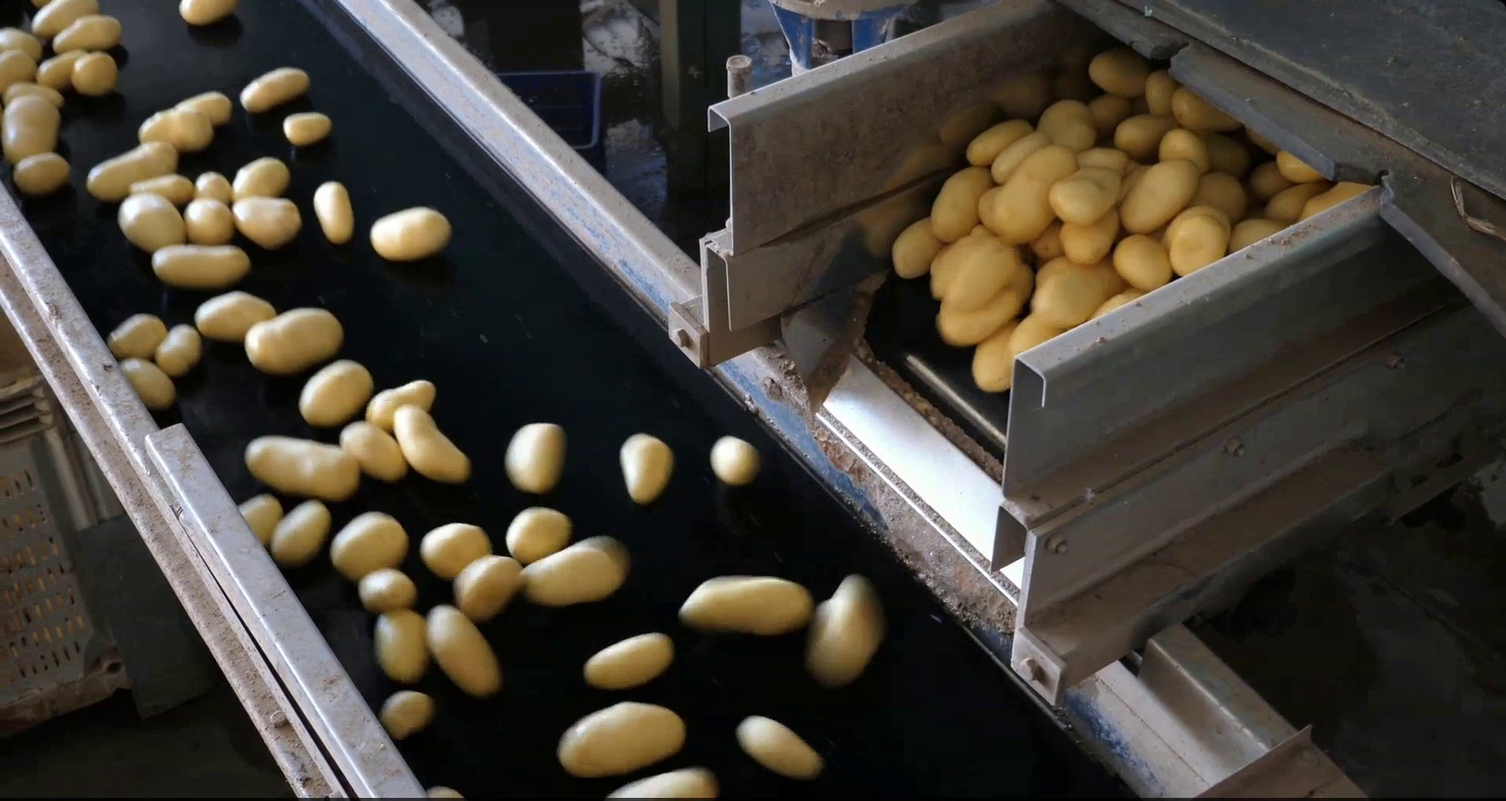potato: (548, 698, 694, 782), (803, 567, 886, 694), (672, 570, 821, 640), (987, 142, 1083, 248), (515, 531, 634, 615), (923, 262, 1036, 350), (239, 300, 351, 379), (241, 432, 362, 505), (421, 599, 505, 701), (1028, 254, 1131, 327), (1115, 157, 1204, 239), (392, 401, 476, 486), (575, 627, 676, 697), (78, 140, 186, 204), (324, 509, 413, 585), (733, 710, 828, 781), (941, 235, 1028, 311), (926, 158, 996, 250), (290, 356, 377, 429), (365, 201, 456, 264), (190, 288, 287, 347), (1156, 201, 1231, 277), (370, 603, 434, 691), (450, 553, 526, 627), (1044, 161, 1129, 227), (145, 239, 256, 289), (927, 227, 998, 305), (502, 417, 571, 497), (500, 500, 579, 567), (111, 190, 190, 256), (413, 519, 497, 581), (616, 426, 678, 510), (1053, 204, 1133, 268), (1162, 78, 1250, 136), (595, 761, 722, 801), (359, 375, 443, 435), (336, 415, 409, 484), (966, 315, 1027, 397), (123, 102, 217, 155), (266, 494, 332, 569), (227, 190, 306, 252), (961, 114, 1043, 172), (2, 92, 66, 166), (235, 61, 317, 118), (889, 212, 948, 285), (987, 128, 1055, 190), (1031, 99, 1106, 154), (1109, 107, 1184, 160), (1110, 230, 1174, 292), (1296, 176, 1381, 221), (1184, 165, 1250, 222), (704, 430, 764, 490), (1257, 176, 1329, 226), (376, 687, 439, 744), (1006, 307, 1062, 371), (49, 12, 125, 59), (229, 154, 296, 207), (118, 356, 179, 414), (311, 172, 355, 252), (1080, 48, 1146, 100), (349, 565, 421, 611), (1151, 124, 1213, 175), (1224, 210, 1291, 257), (233, 491, 287, 549), (8, 150, 77, 195), (106, 310, 169, 359), (2, 72, 68, 118), (151, 320, 204, 377), (180, 193, 237, 245), (71, 45, 122, 103), (126, 170, 201, 208), (1082, 282, 1153, 322), (24, 1, 107, 34), (173, 85, 237, 127), (1135, 63, 1183, 118), (1268, 143, 1328, 187), (1195, 132, 1253, 177), (281, 108, 338, 150), (35, 46, 88, 89), (1239, 155, 1290, 199), (1082, 90, 1131, 132), (969, 179, 1003, 238), (1, 42, 37, 96), (1, 20, 42, 67), (176, 1, 240, 31), (190, 168, 238, 205), (1074, 142, 1129, 172), (1025, 219, 1065, 260), (1238, 123, 1282, 158), (421, 782, 468, 801)
